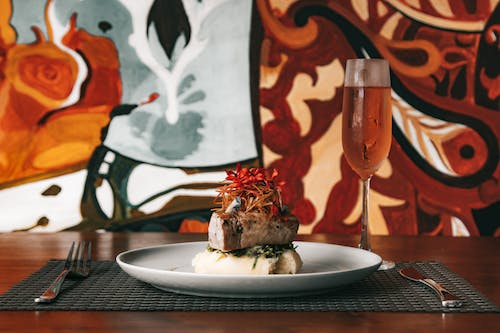alcohol: (340, 57, 396, 270)
knife: (399, 266, 465, 309)
